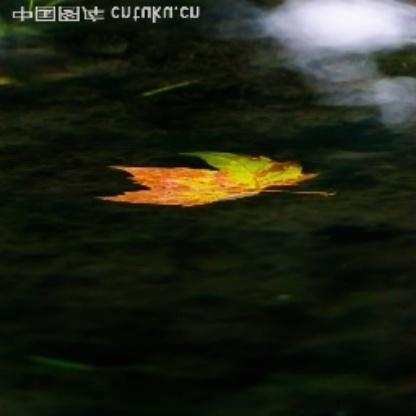leaf: (107, 147, 323, 212)
